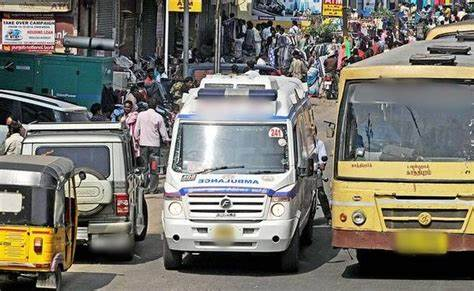ambulance: (158, 60, 312, 274)
